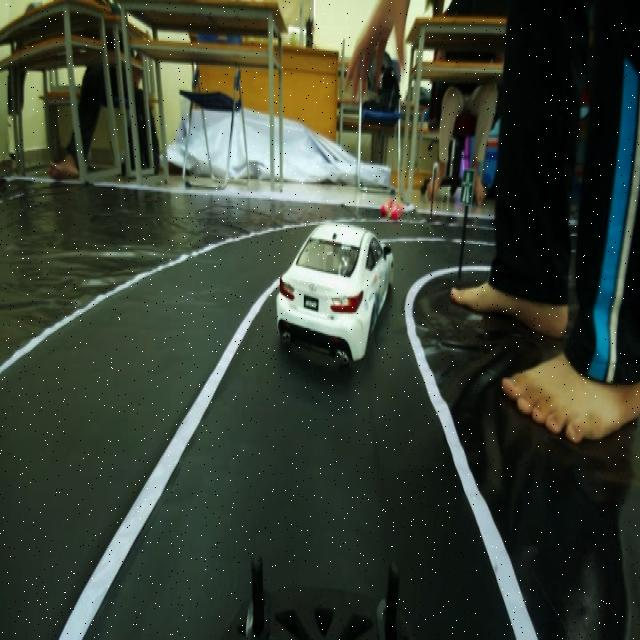car: (284, 213, 392, 379)
highway_entry: (457, 162, 476, 208)
